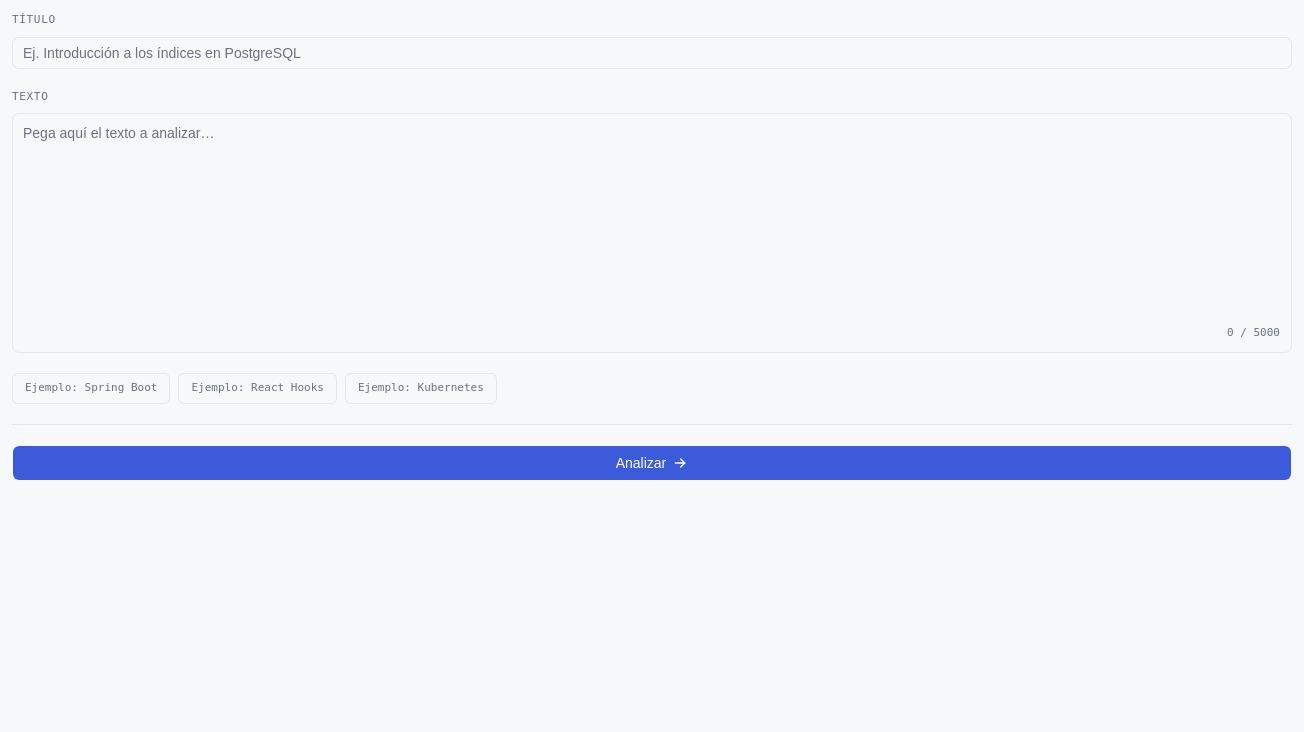
AnalyzeForm › shows Spanish validation messages when submitted empty
The image size is (1304, 732).
Click the button "Analizar".
click(652, 462)  # box [12,444,1292,480]
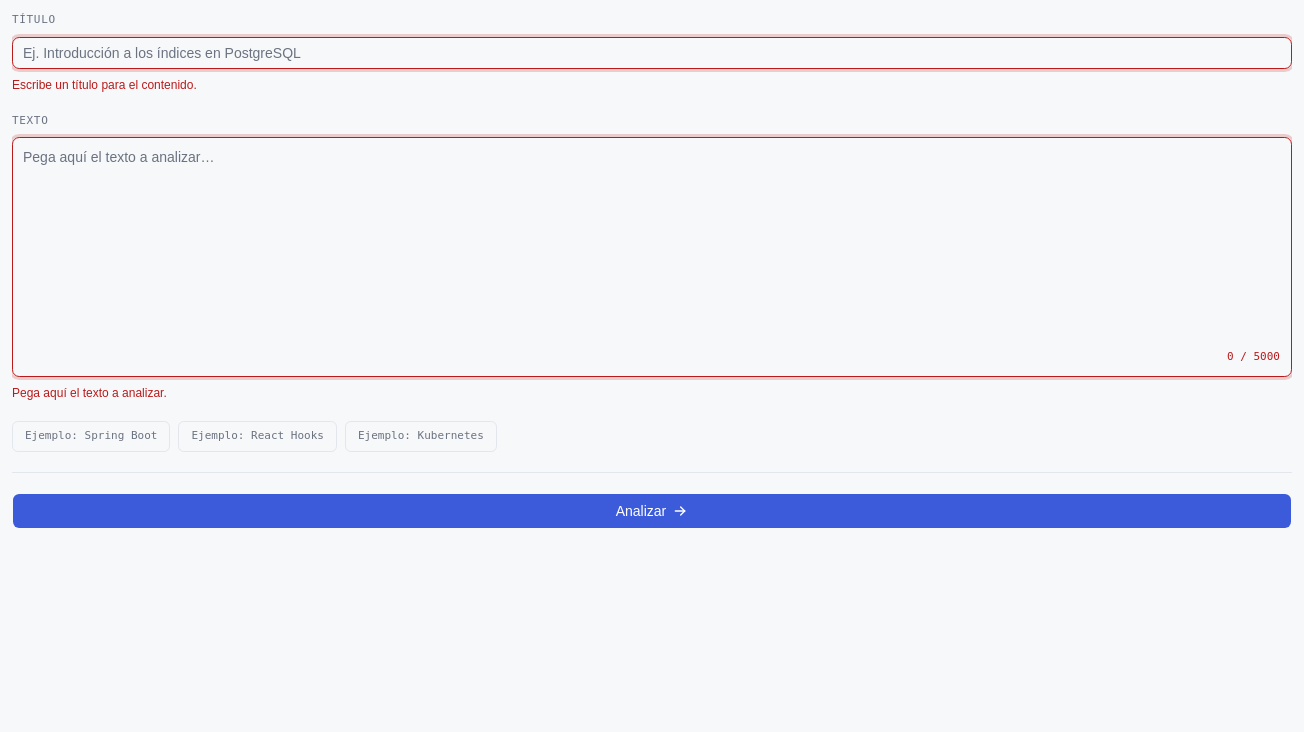
Check: the text "Escribe un título para el contenido." is shown, box [12,78,197,92]
Check: the text "Pega aquí el texto a analizar." is shown, box [12,386,167,400]
